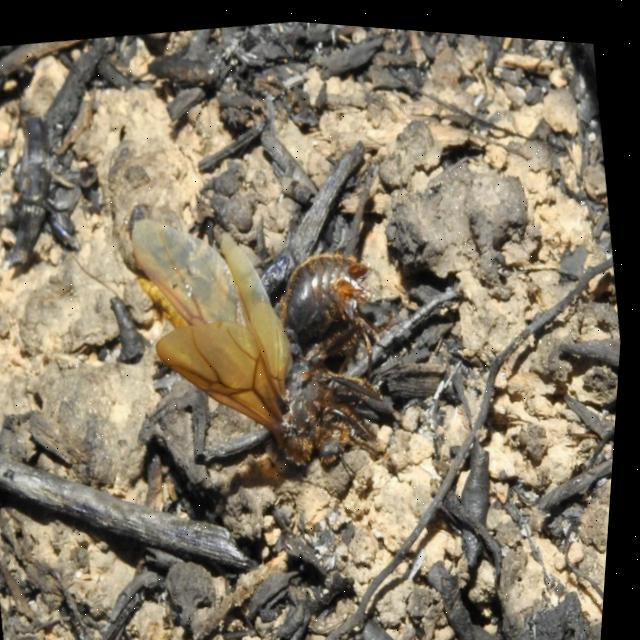Dead-Male-Alate: (118, 178, 427, 516)
